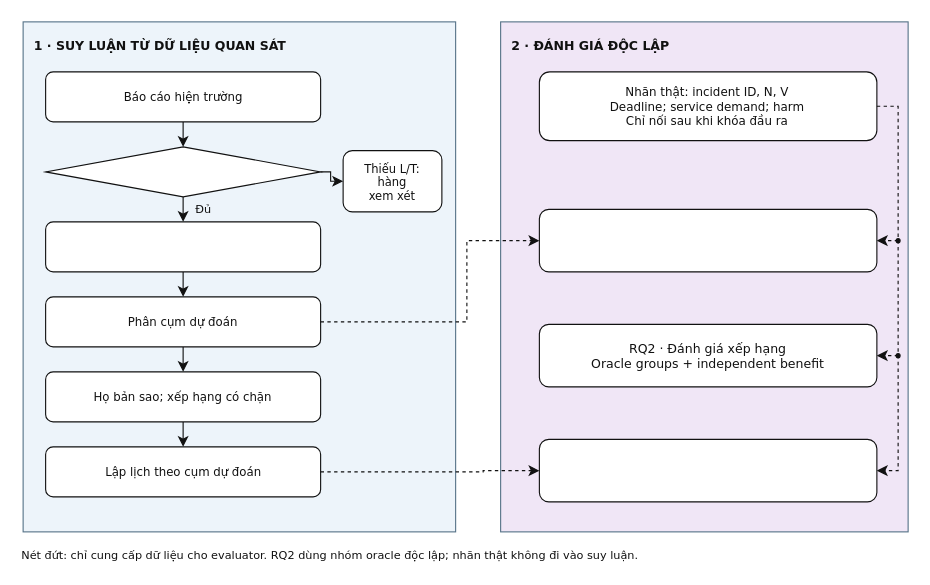
Some shapes in this 930 by 585 pixel diagram are drawn without their labels. Each missing label, with the centre of its shape:
Masked similarity Đồ thị thưa: ngưỡng + k-NN: [182,246]
RQ1 · Đánh giá phân cụm Partition đã khóa + nhãn thật: [707,240]
RQ3 · Đánh giá điều phối Schedule đã khóa + nhãn thật: [707,470]
Đủ vị trí / thời gian?: [182,171]
